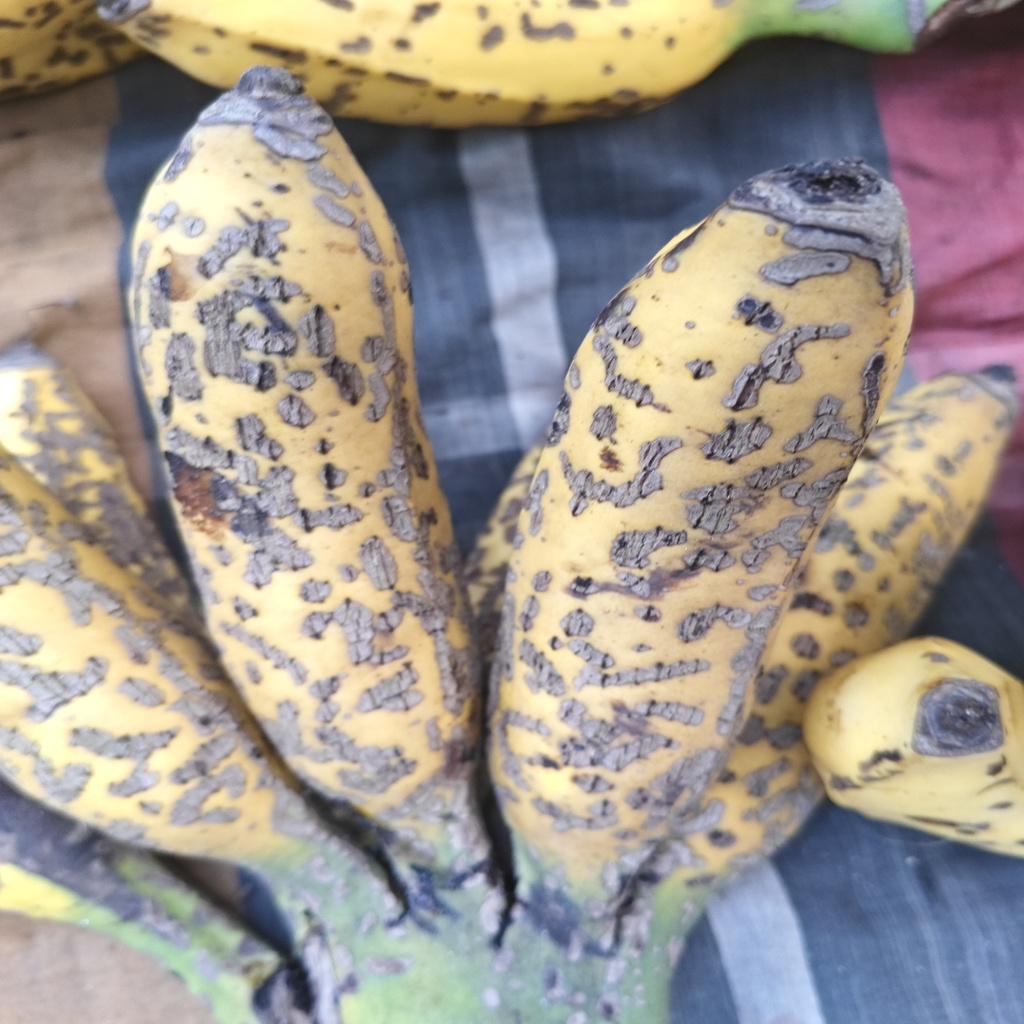unhealthy: (489, 173, 906, 851), (125, 85, 470, 842)
